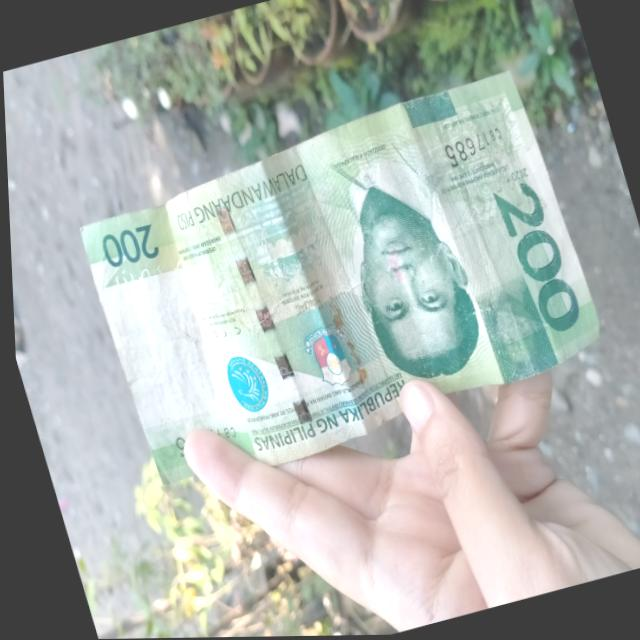concealed_value: (466, 270, 557, 387)
security_thread: (207, 181, 316, 454)
see_through_mark: (104, 250, 201, 304)
serial_number: (434, 117, 511, 171)
value: (483, 172, 588, 345)
